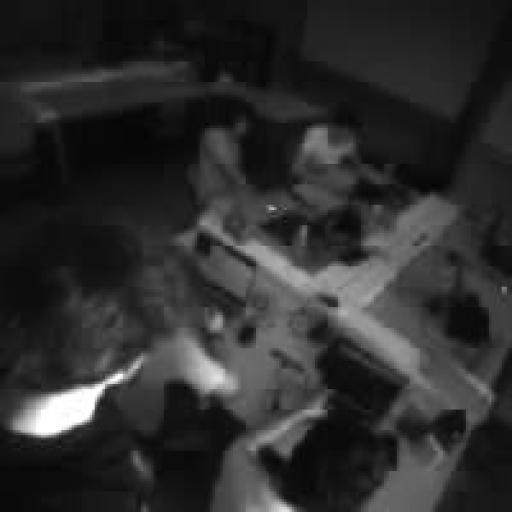human: (0, 218, 199, 511), (210, 397, 396, 511), (190, 95, 255, 209), (292, 105, 360, 191)
